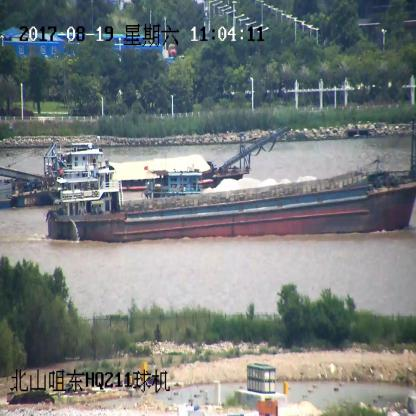Bulk Carrier: (47, 171, 416, 242)
